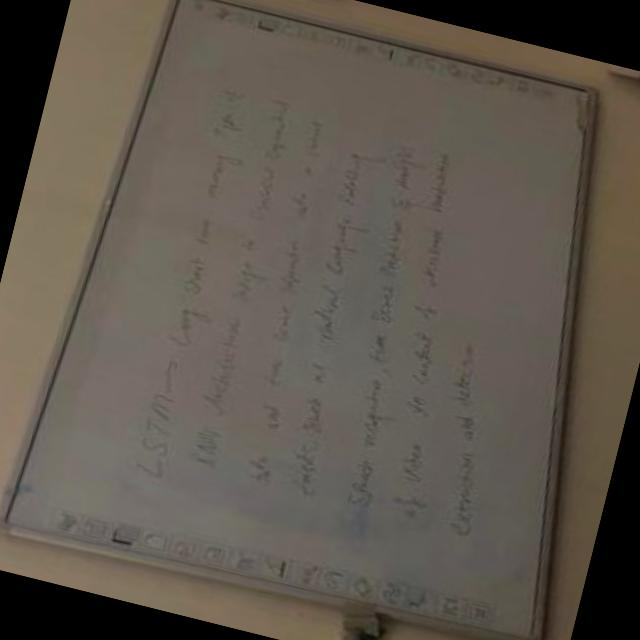White-board: (6, 0, 589, 640)
